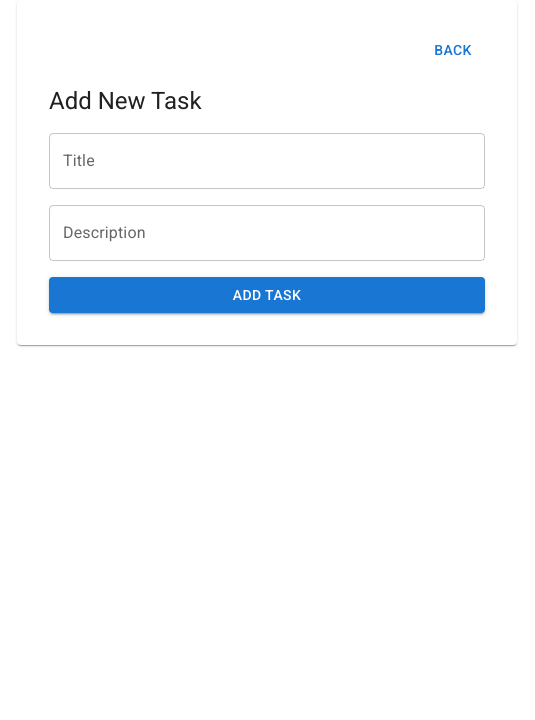
Test: TaskForm › adds a new task and shows success snackbar
Type "New Task" into the field labelled "Title" at (267, 160), box [49,132,485,188]
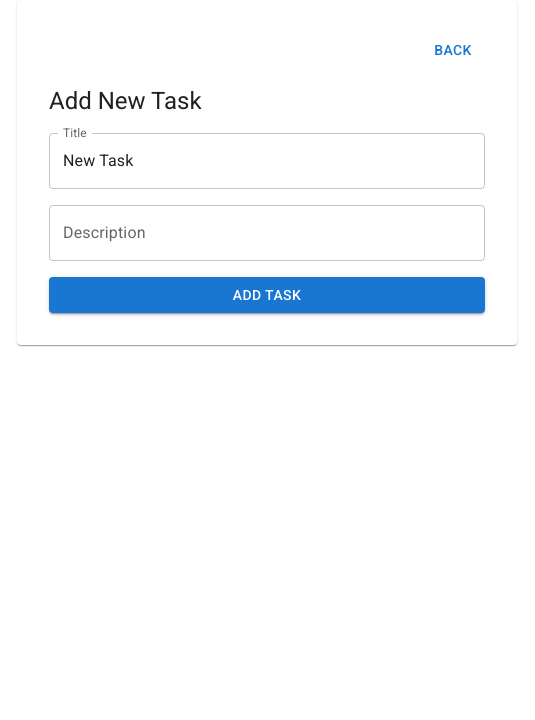
Type "Details" into the field labelled "Description" at (267, 232), box [49,204,485,260]
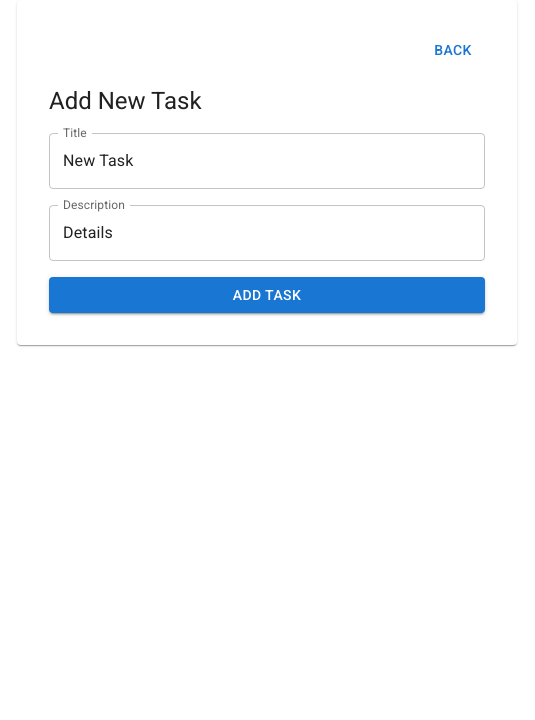
Click the button "Add Task" at (267, 295), box [49,276,485,313]
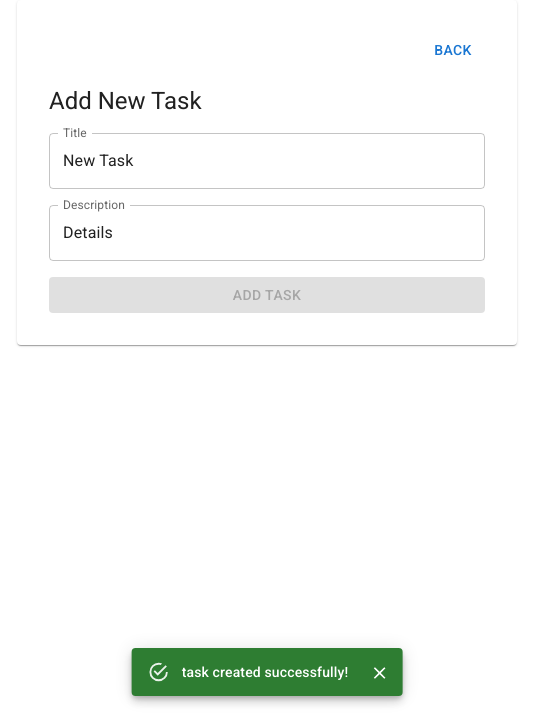
Now the text "task created successfully!" is shown, box [182,664,348,680]
